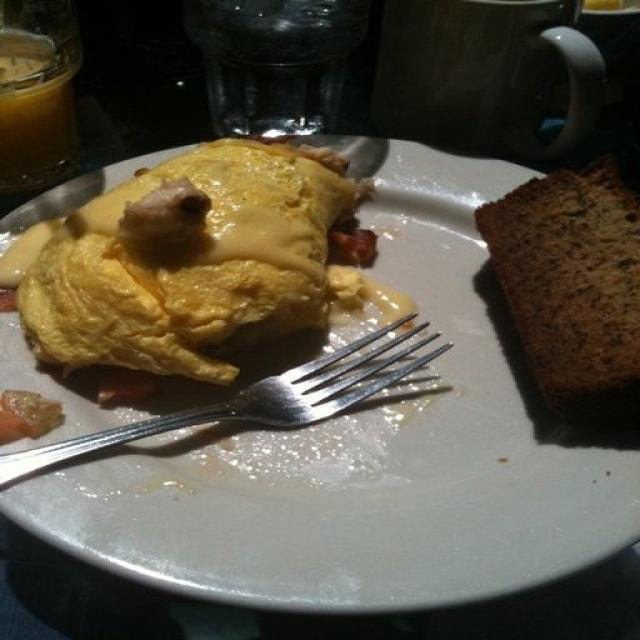telur_ayam_dadar: (4, 135, 378, 386)
